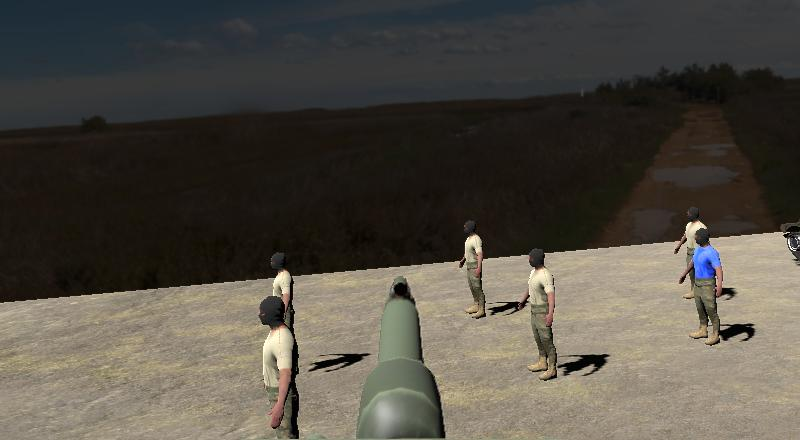Human: (255, 289, 308, 440), (672, 216, 726, 350), (515, 241, 562, 384), (455, 214, 491, 323)
Tank: (779, 208, 800, 274)
